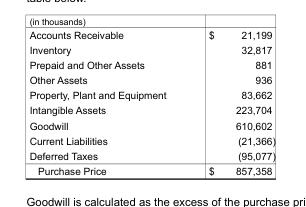table: (28, 28, 274, 176)
table column: (28, 28, 186, 176), (186, 28, 274, 176)
table row: (28, 56, 274, 72), (28, 147, 274, 163), (28, 41, 274, 56), (28, 72, 274, 87), (28, 87, 274, 102), (28, 102, 274, 117), (28, 117, 274, 132), (28, 132, 274, 147), (28, 28, 274, 41), (28, 163, 274, 176)
